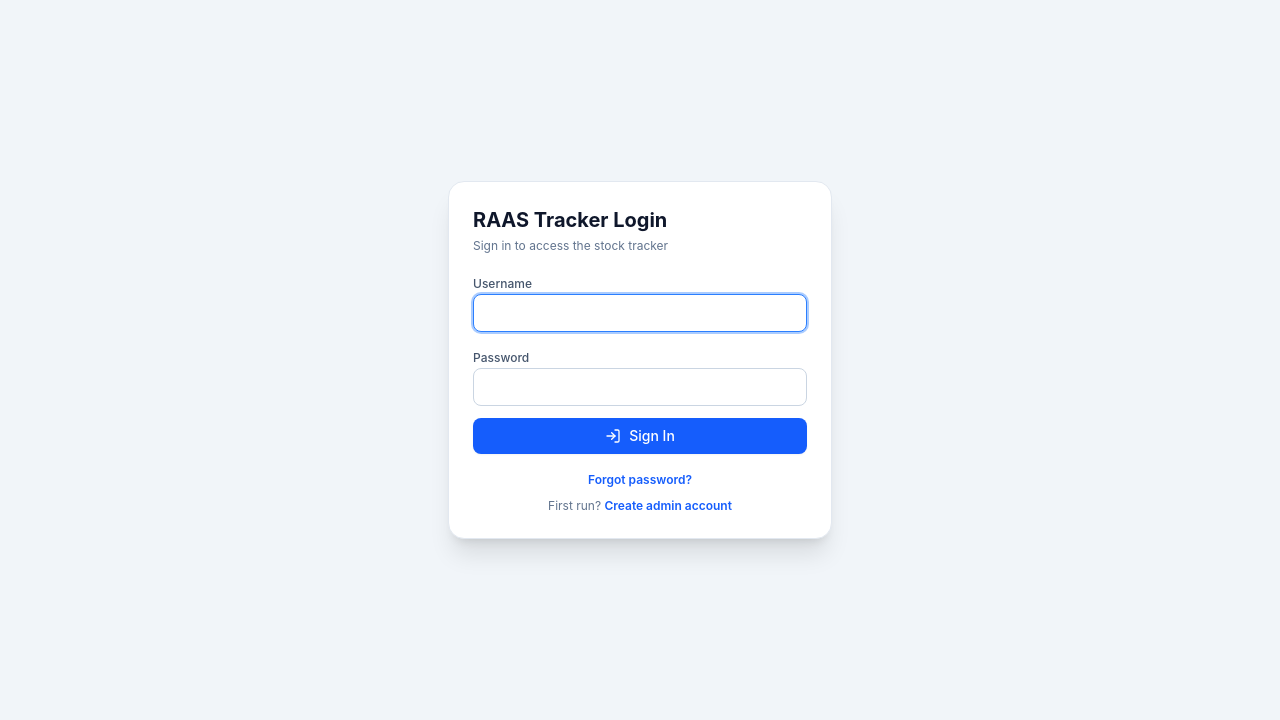
Test: Login forgot-password modal › opens from the Forgot password link
Expected: the button "Sign In" is shown, [473,418,807,454]
Click the button "Forgot password?": (640, 480) [588,472,692,488]
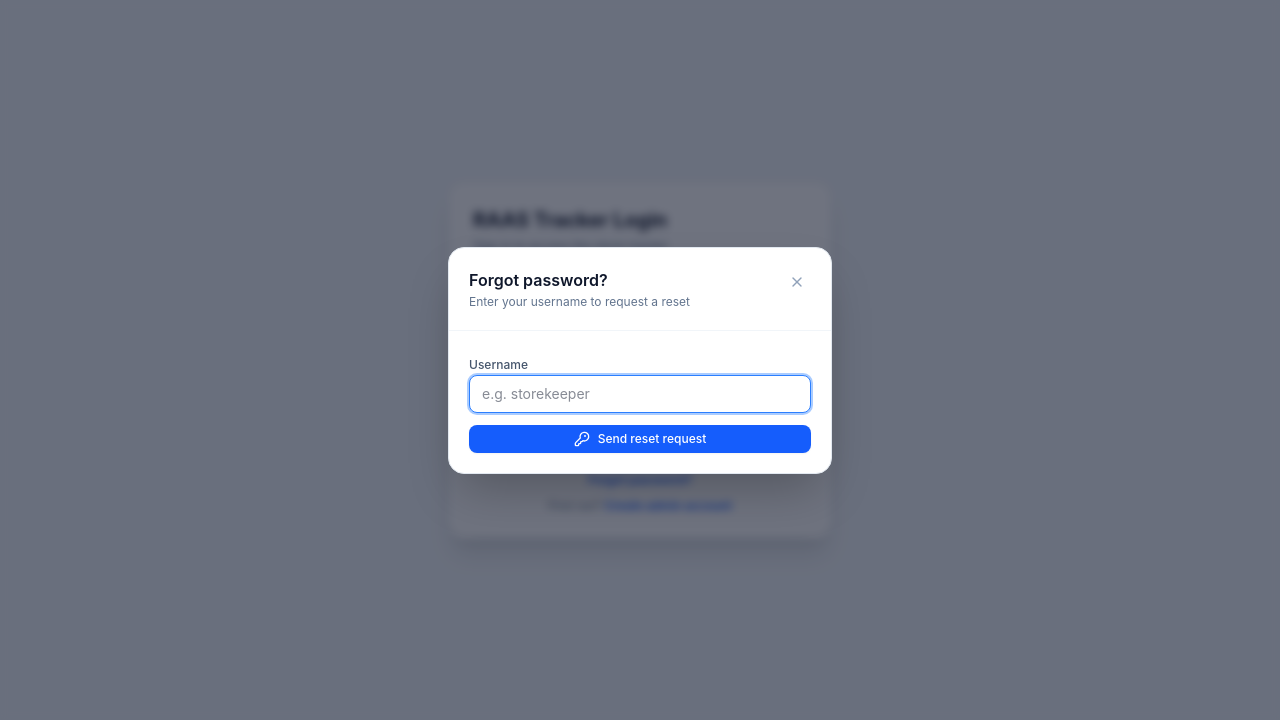
Result: the text "Enter your username to request a reset" is shown at [469,294,690,310]
